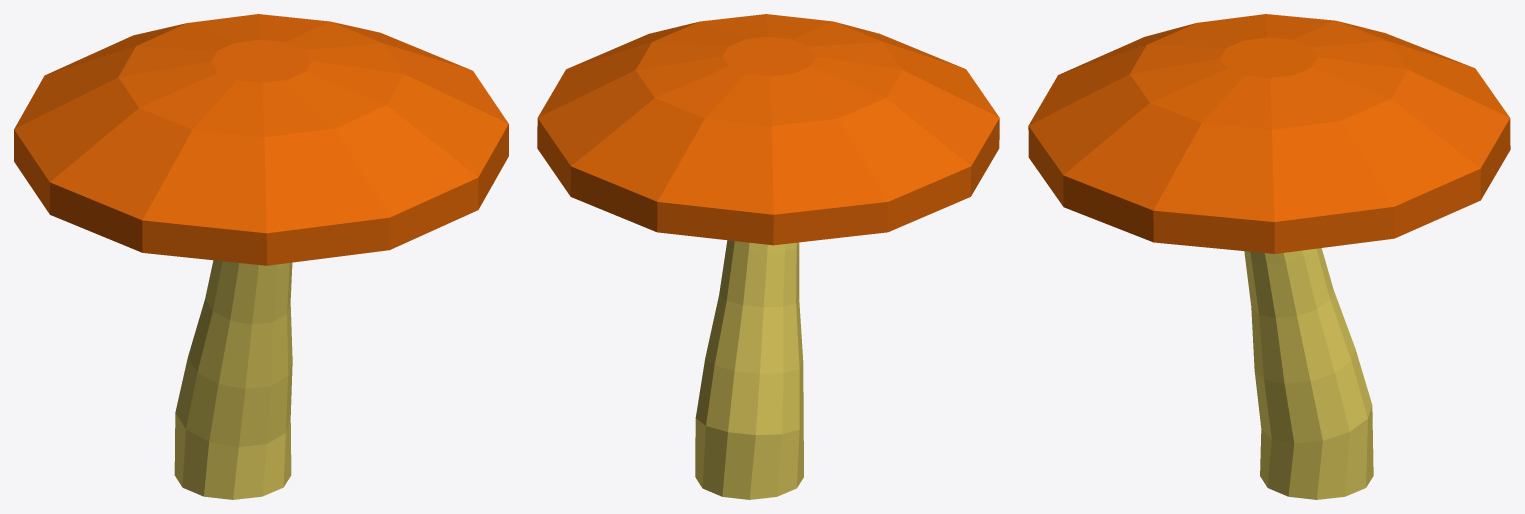
The model's file is mush1.fbx.
3 renders of one model, left to right at view 1: azimuth 30°, elevation 25°; view 2: azimuth 150°, elevation 25°; view 3: azimuth 270°, elevation 25°, orthographic. The views are drawn at different scales.
Visible parts, largest first — view 1: Cylinder; view 2: Cylinder; view 3: Cylinder.
Boxes of the visible parts, x1,y1,x2,y2 form: Cylinder: (14,14,508,499); Cylinder: (537,14,999,499); Cylinder: (1028,14,1510,499).
Bounding box in the file's own units: 848 × 816 × 848.
